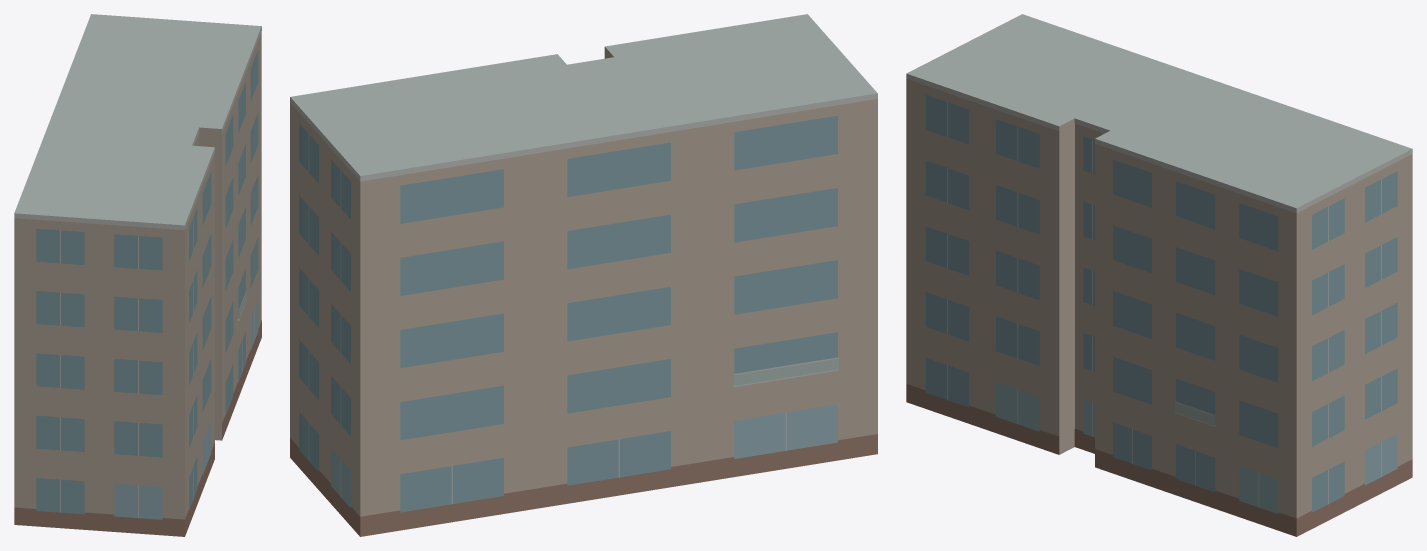
File: survey-upis-32668486.glb
The picture shows the model from 3 angles, left to right: view 1: azimuth 30°, elevation 25°; view 2: azimuth 150°, elevation 25°; view 3: azimuth 270°, elevation 25°; orthographic projection. The views are drawn at different scales.
Visible parts, largest first — view 1: survey-upis-32668486.tmp; view 2: survey-upis-32668486.tmp; view 3: survey-upis-32668486.tmp.
Part boxes in pixels (x1,y1,x2,y2): survey-upis-32668486.tmp: (14,14,261,536); survey-upis-32668486.tmp: (290,14,877,536); survey-upis-32668486.tmp: (906,14,1412,536).
Size of the model in its own units: 20.17 by 15.9 by 22.21.
